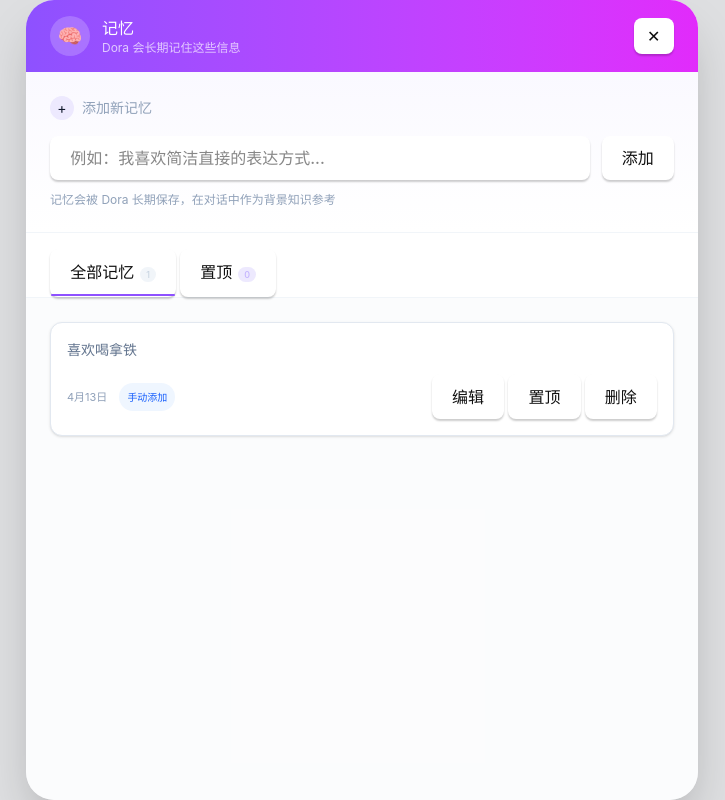
MemoryPanel › deletes a memory item
Expected: the text "喜欢喝拿铁" is shown, [67,341,137,358]
Find delete button by text
Click the button "删除".
click(621, 397)  # box [585,374,657,419]
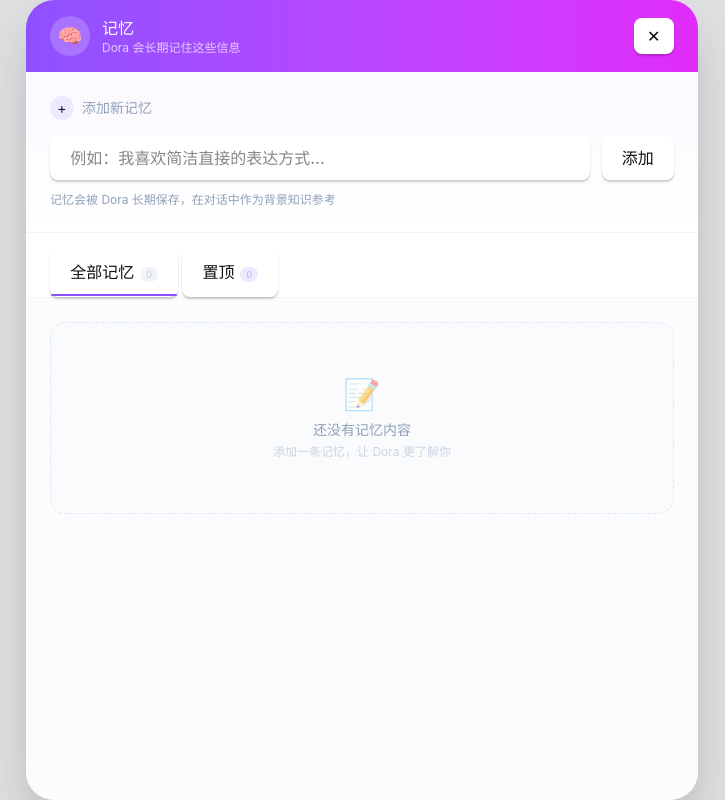
Expected: the text "喜欢喝拿铁" is gone
